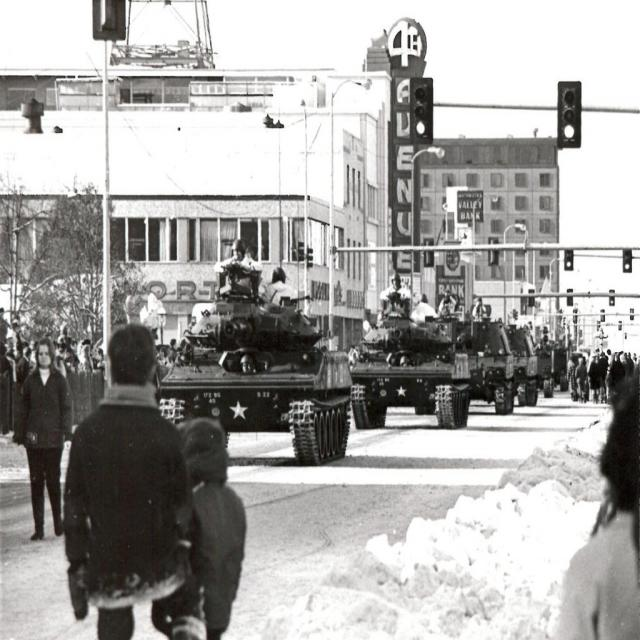tank: (157, 263, 354, 466), (348, 288, 472, 430), (464, 314, 514, 412), (506, 324, 537, 405), (536, 336, 551, 394), (554, 346, 569, 389)
